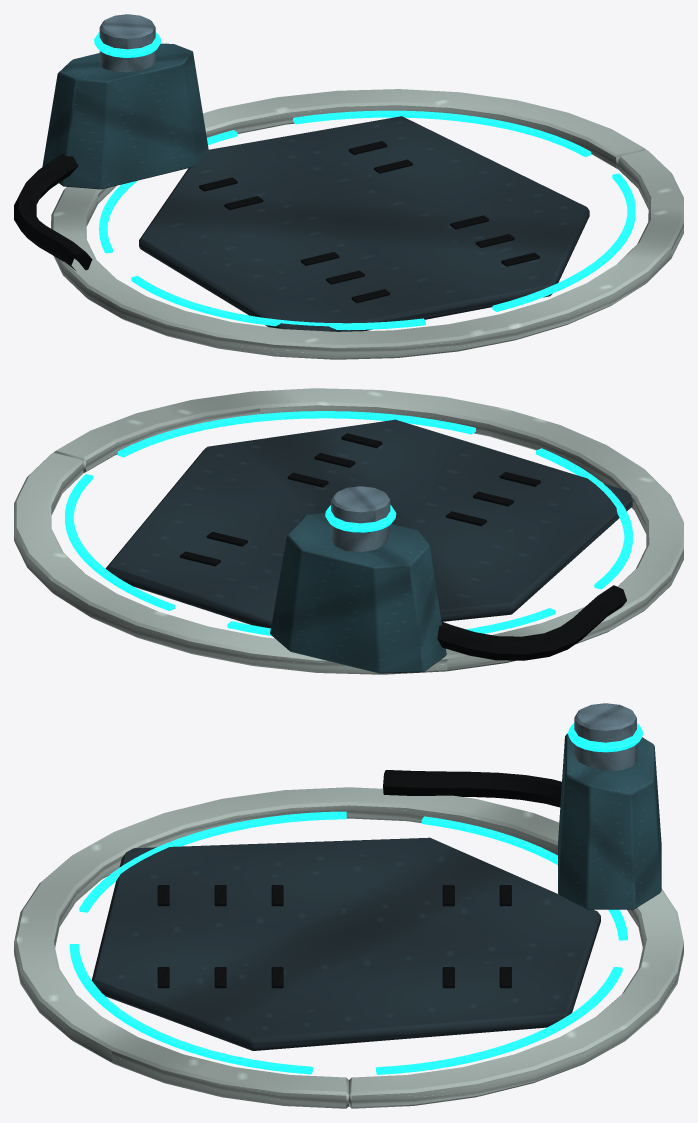
Rendered from Repair_Platform_V2.fbx.
The picture shows the model from 3 angles, top to bottom: view 1: azimuth 30°, elevation 25°; view 2: azimuth 150°, elevation 25°; view 3: azimuth 270°, elevation 25°; orthographic projection. The views are drawn at different scales.
Parts seen in each view (by area): view 1: Repair_Platform_V2; view 2: Repair_Platform_V2; view 3: Repair_Platform_V2.
Boxes of the visible parts, x1,y1,x2,y2 form: Repair_Platform_V2: [14, 14, 683, 359]; Repair_Platform_V2: [14, 388, 683, 674]; Repair_Platform_V2: [14, 703, 683, 1108].
Size of the model in its own units: 5.1 by 1.34 by 4.7.
